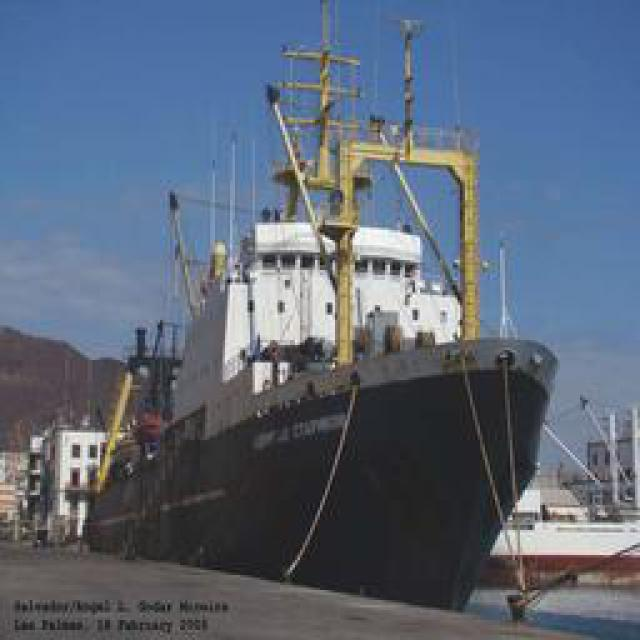Ship: (91, 6, 554, 606)
